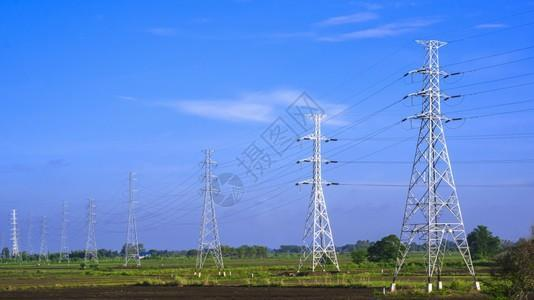power_tower: (382, 36, 480, 290), (296, 112, 345, 276), (195, 146, 230, 277), (116, 169, 153, 263), (55, 201, 75, 264), (85, 195, 101, 267), (35, 213, 52, 274), (6, 205, 25, 258)
